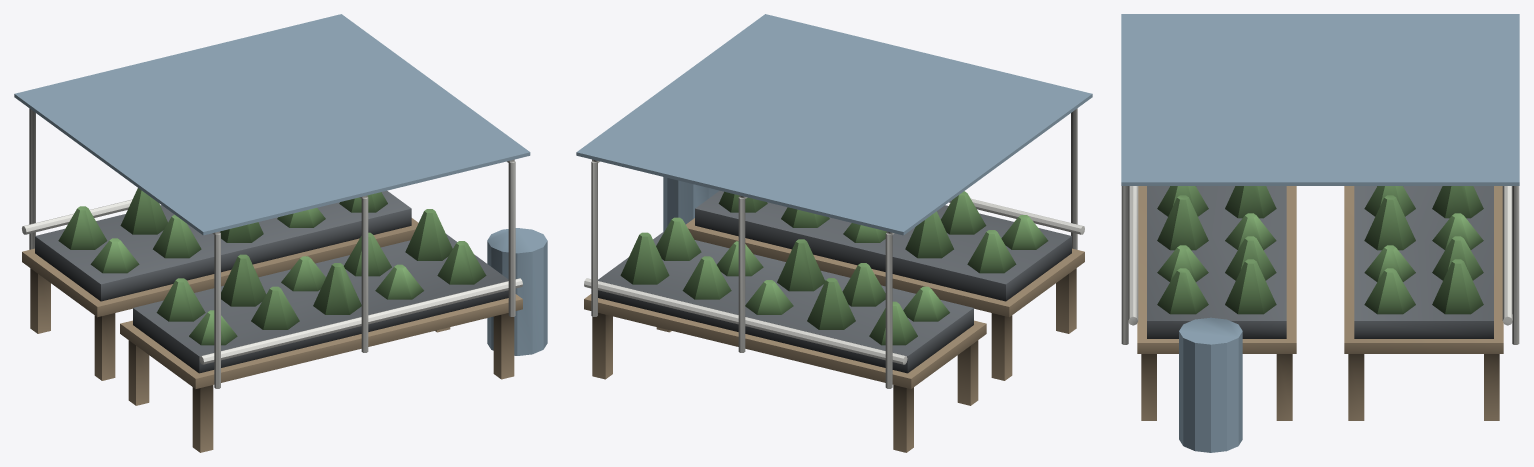
The model's file is Base_HydroponicFarm.fbx.
3 views of the same model, side by side, from view 1: azimuth 30°, elevation 25°; view 2: azimuth 150°, elevation 25°; view 3: azimuth 270°, elevation 25° (orthographic). The views are drawn at different scales.
Visible parts, largest first — view 1: Base_HydroponicFarm; view 2: Base_HydroponicFarm; view 3: Base_HydroponicFarm.
Part boxes in pixels (x1,y1,x2,y2): Base_HydroponicFarm: (14,14,547,452); Base_HydroponicFarm: (576,14,1092,452); Base_HydroponicFarm: (1121,14,1519,452).
Size of the model in its own units: 2.34 by 1.34 by 2.
